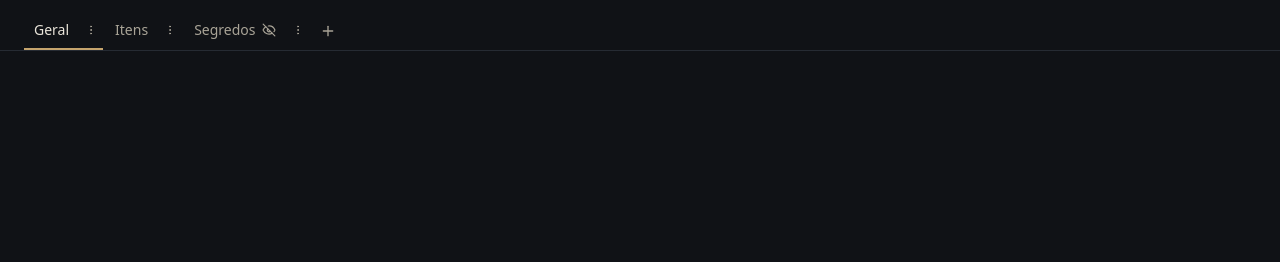
it: document tab strip › the master sees "Segredos" marked and hides "Itens" from the players
Expected: the picture named "Só mestres" is shown, [262, 23, 276, 37]
Click the button named "Opções da aba Itens": (170, 30) [158, 18, 182, 42]
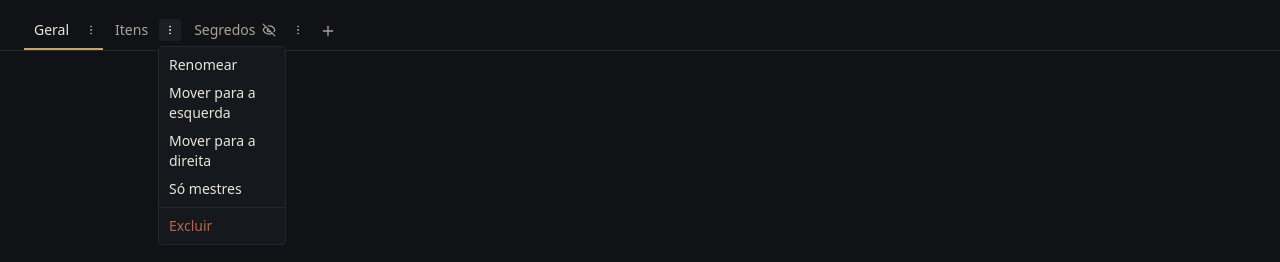
Click the menu item "Só mestres": (205, 188) [169, 179, 242, 198]
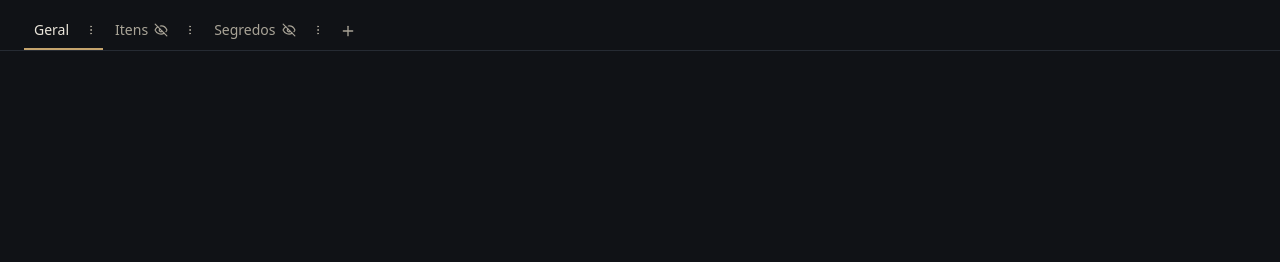
Expected: the 1st picture named "Só mestres" is shown, [154, 23, 168, 37]
